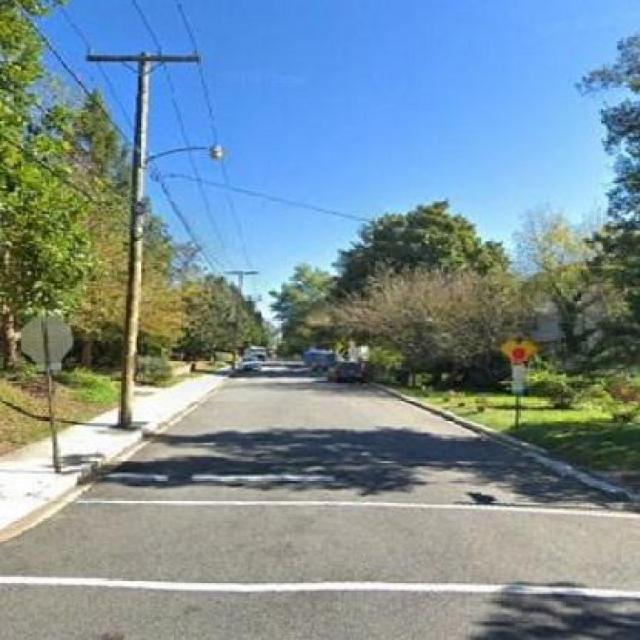pole: (80, 40, 200, 425)
